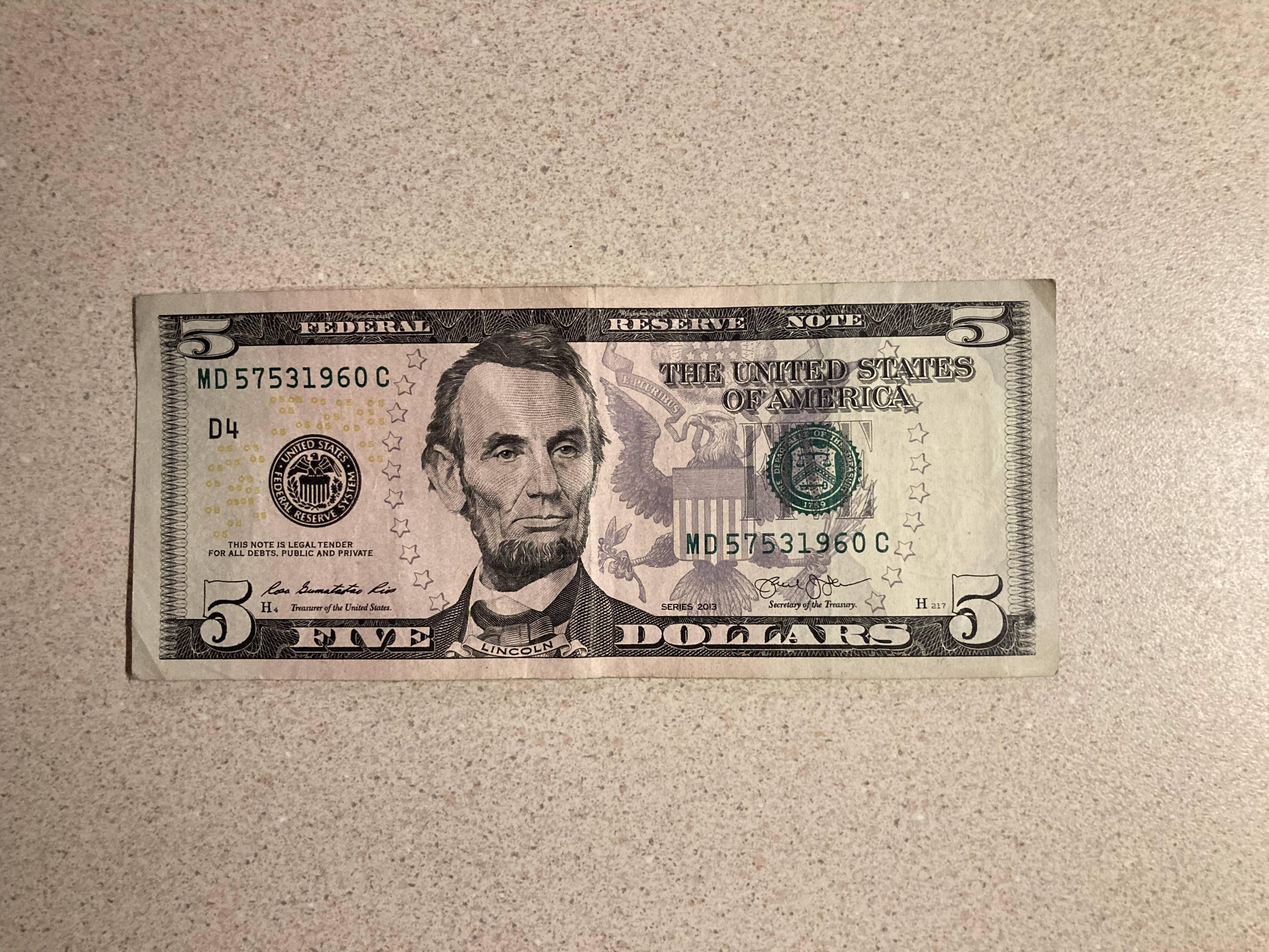five-front: (125, 276, 1060, 682)
